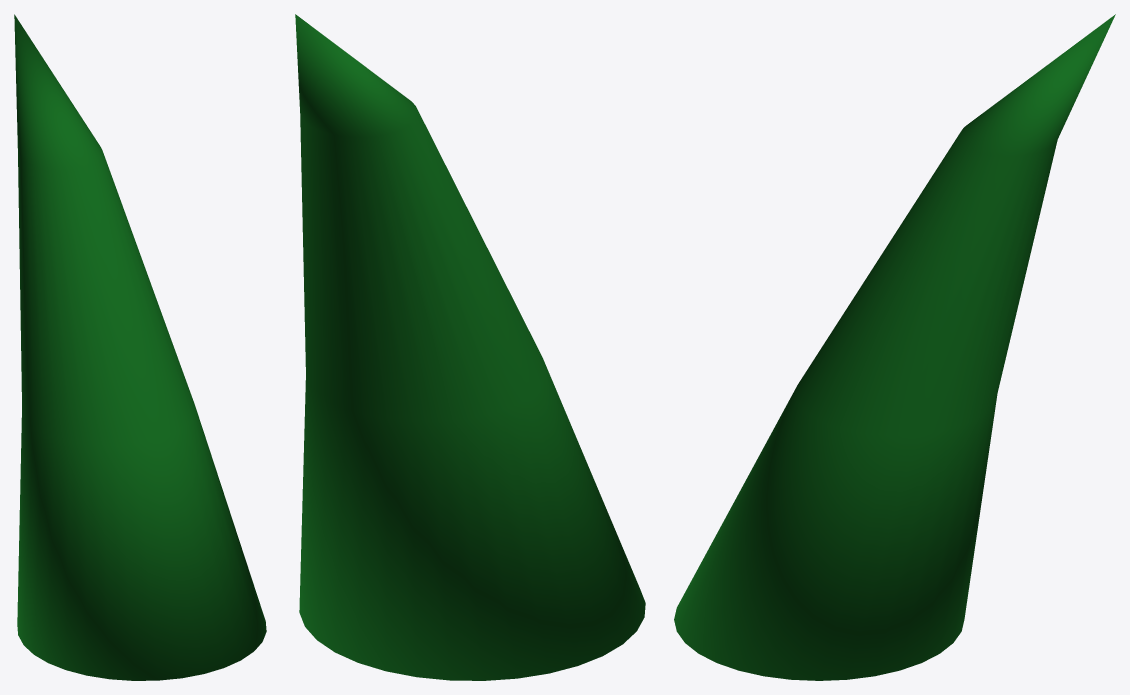
File: grass_moving.glb
3 renders of one model, left to right at view 1: azimuth 30°, elevation 25°; view 2: azimuth 150°, elevation 25°; view 3: azimuth 270°, elevation 25°, orthographic. The views are drawn at different scales.
Visible parts, largest first — view 1: Cone; view 2: Cone; view 3: Cone.
Part boxes in pixels (left/top/right/bottom): Cone: left=14, top=14, right=266, bottom=680; Cone: left=295, top=14, right=645, bottom=680; Cone: left=674, top=14, right=1115, bottom=680.
Size of the model in its own units: 0.1213 by 0.2792 by 0.1846.
